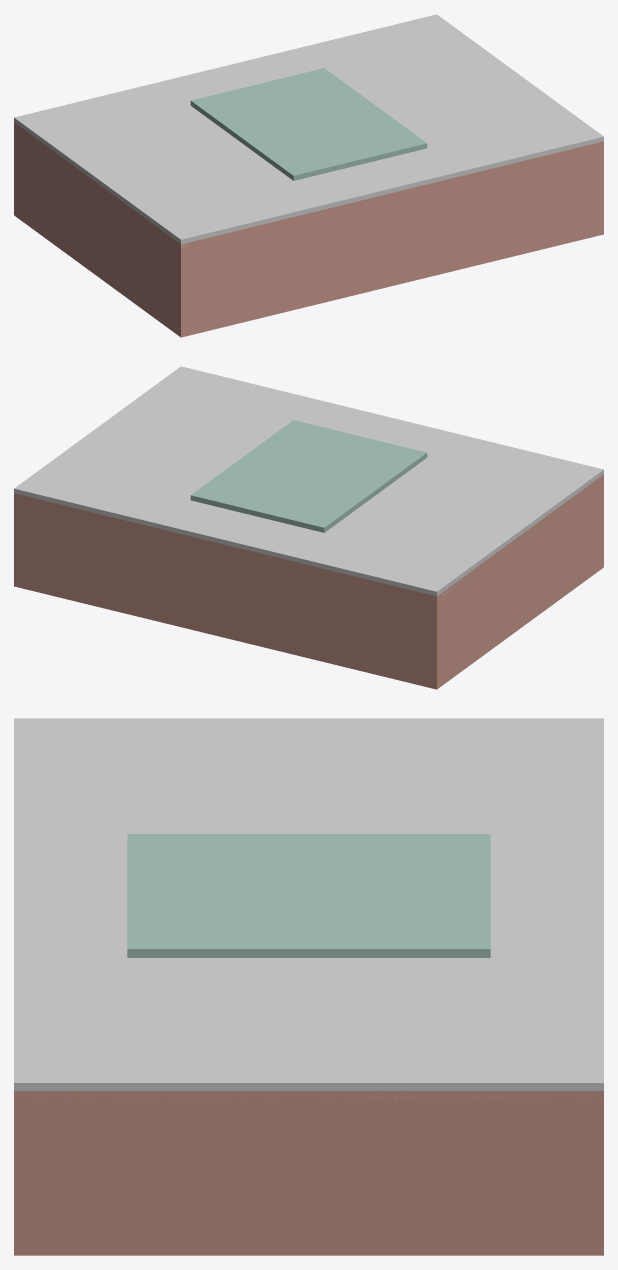
Rendered from mesa_centro_toalha.glb.
The picture shows the model from 3 angles, top to bottom: view 1: azimuth 30°, elevation 25°; view 2: azimuth 150°, elevation 25°; view 3: azimuth 270°, elevation 25°; orthographic projection. The views are drawn at different scales.
Parts seen in each view (by area): view 1: MESA_CENTRO_TOALHA_v01; view 2: MESA_CENTRO_TOALHA_v01; view 3: MESA_CENTRO_TOALHA_v01.
Part boxes in pixels (x1,y1,x2,y2): MESA_CENTRO_TOALHA_v01: (14, 14, 603, 337); MESA_CENTRO_TOALHA_v01: (14, 366, 603, 689); MESA_CENTRO_TOALHA_v01: (14, 718, 603, 1255).
Size of the model in its own units: 0.95 by 0.221 by 0.65.
